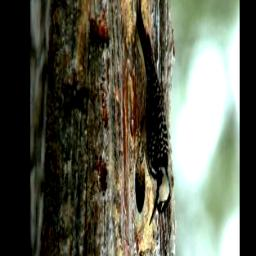Woodpecker: (128, 0, 176, 234)
